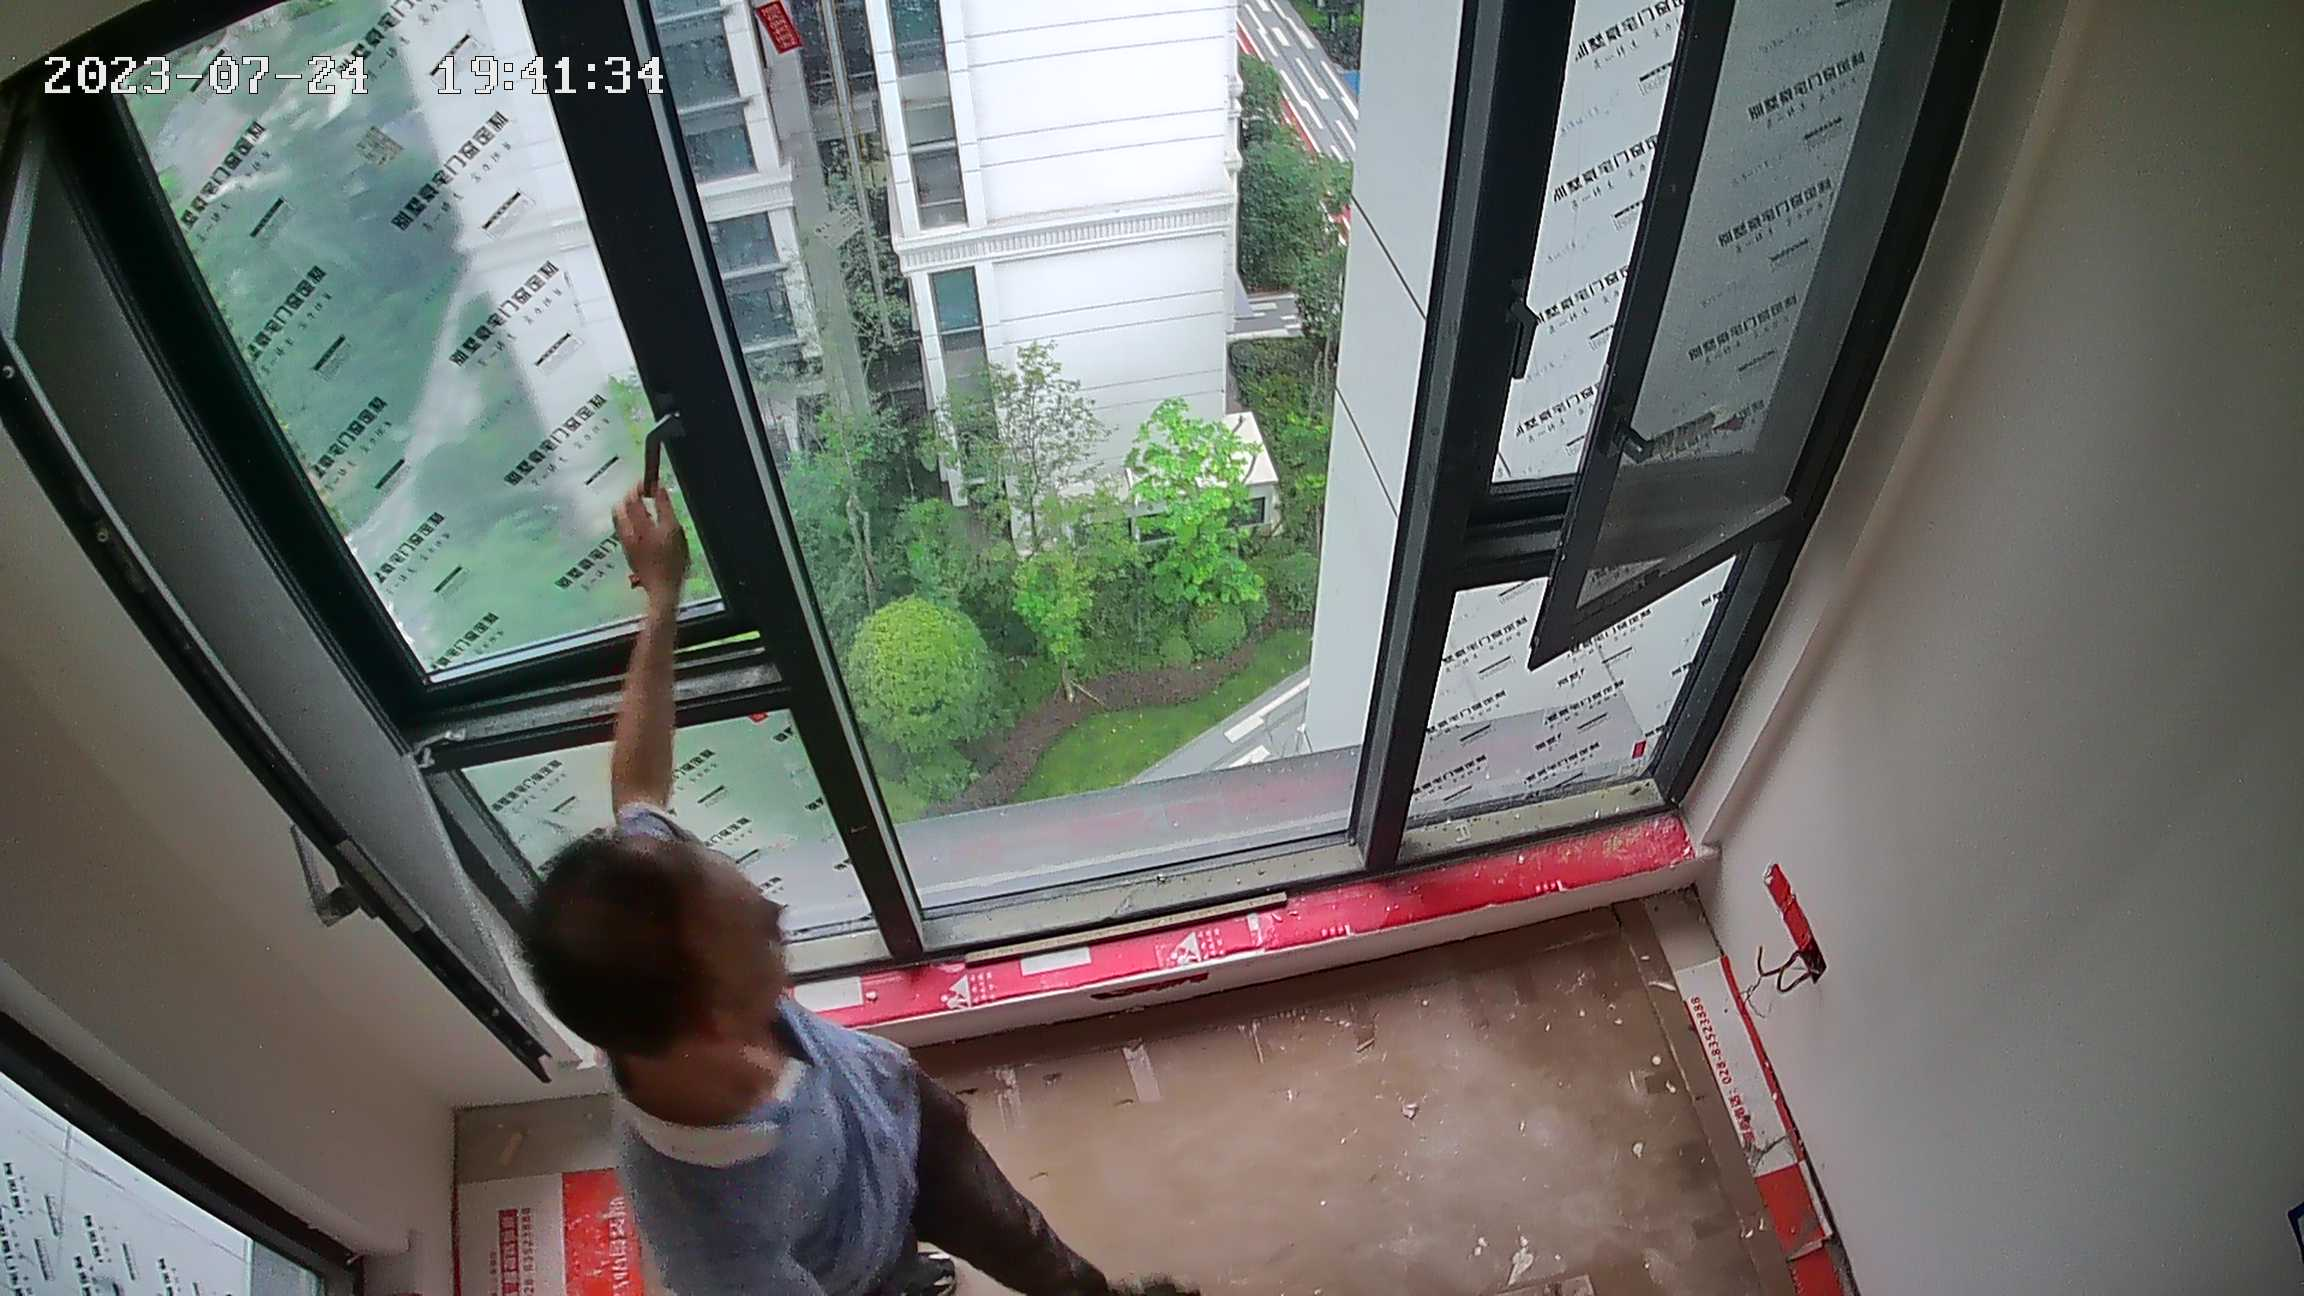people: (514, 480, 1211, 1296)
window: (101, 10, 1870, 901)
